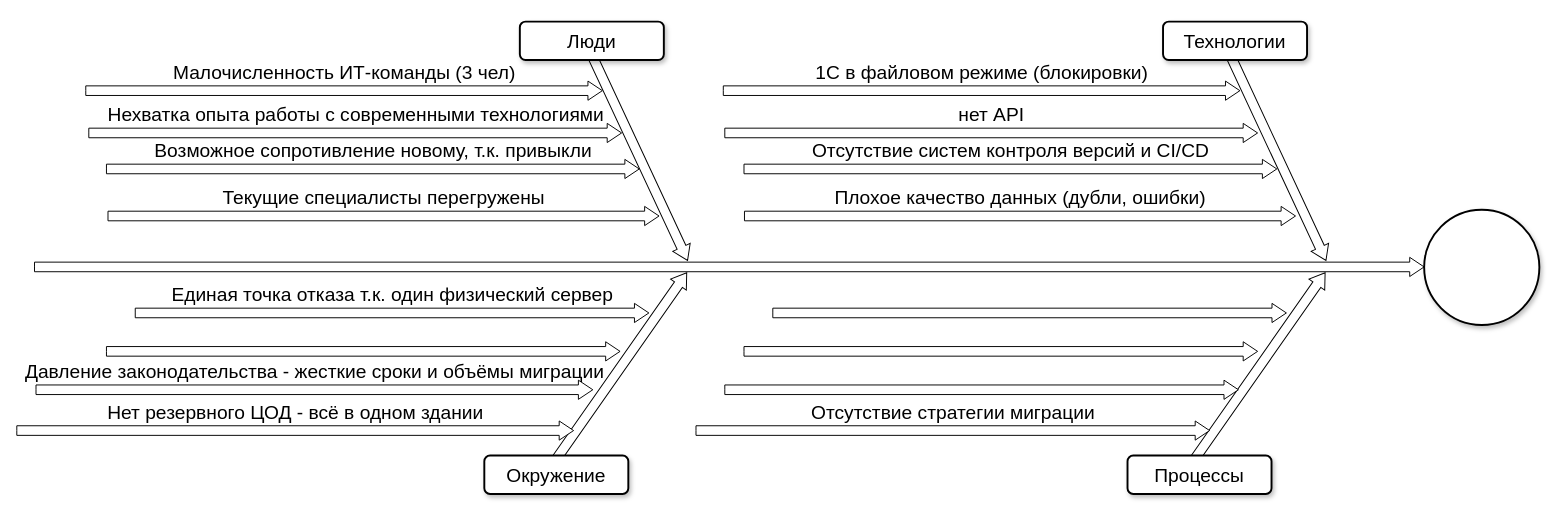
The diagram is 1563 pixels wide and 517 high, and some of its shapes have lost their labels. The centre of each missing label's shape, as x and y in pixels:
Недостаточное тестирование: the point at 981,389
Нет платформы контейнеризации: the point at 363,351
Нет управления изменениями: the point at 1000,351
Слабый мониторинг: the point at 1029,312
Следствие: the point at 1482,268
